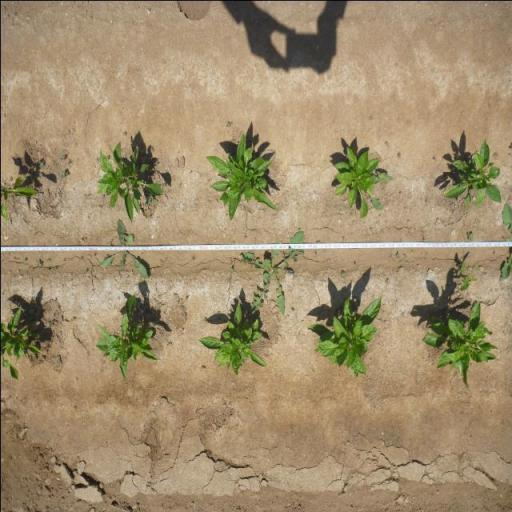plant: (302, 291, 384, 380), (418, 298, 500, 387), (204, 130, 278, 224), (92, 292, 161, 382), (192, 311, 268, 377), (444, 138, 501, 213), (94, 140, 146, 222), (330, 142, 382, 222), (0, 302, 39, 382), (0, 175, 38, 222)
weed: (240, 230, 306, 315), (98, 218, 150, 282), (498, 201, 512, 281), (454, 258, 481, 292), (144, 193, 158, 206), (58, 169, 68, 179), (466, 230, 474, 241), (150, 319, 160, 327), (340, 269, 346, 279), (47, 320, 53, 328), (226, 120, 232, 128), (38, 159, 44, 167), (36, 259, 41, 268), (420, 235, 426, 242), (59, 154, 66, 160), (80, 236, 86, 242), (37, 172, 43, 178), (190, 254, 196, 260), (312, 250, 317, 257), (69, 317, 75, 322), (431, 156, 436, 162), (122, 130, 127, 136), (396, 151, 400, 158), (314, 239, 321, 243), (230, 239, 235, 244), (45, 266, 49, 272), (402, 252, 406, 258), (424, 250, 428, 256), (52, 266, 57, 270), (23, 256, 26, 262), (243, 234, 247, 238), (230, 267, 232, 274), (396, 252, 398, 258), (354, 262, 356, 267)
